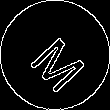M_NE: (21, 21, 89, 89)
